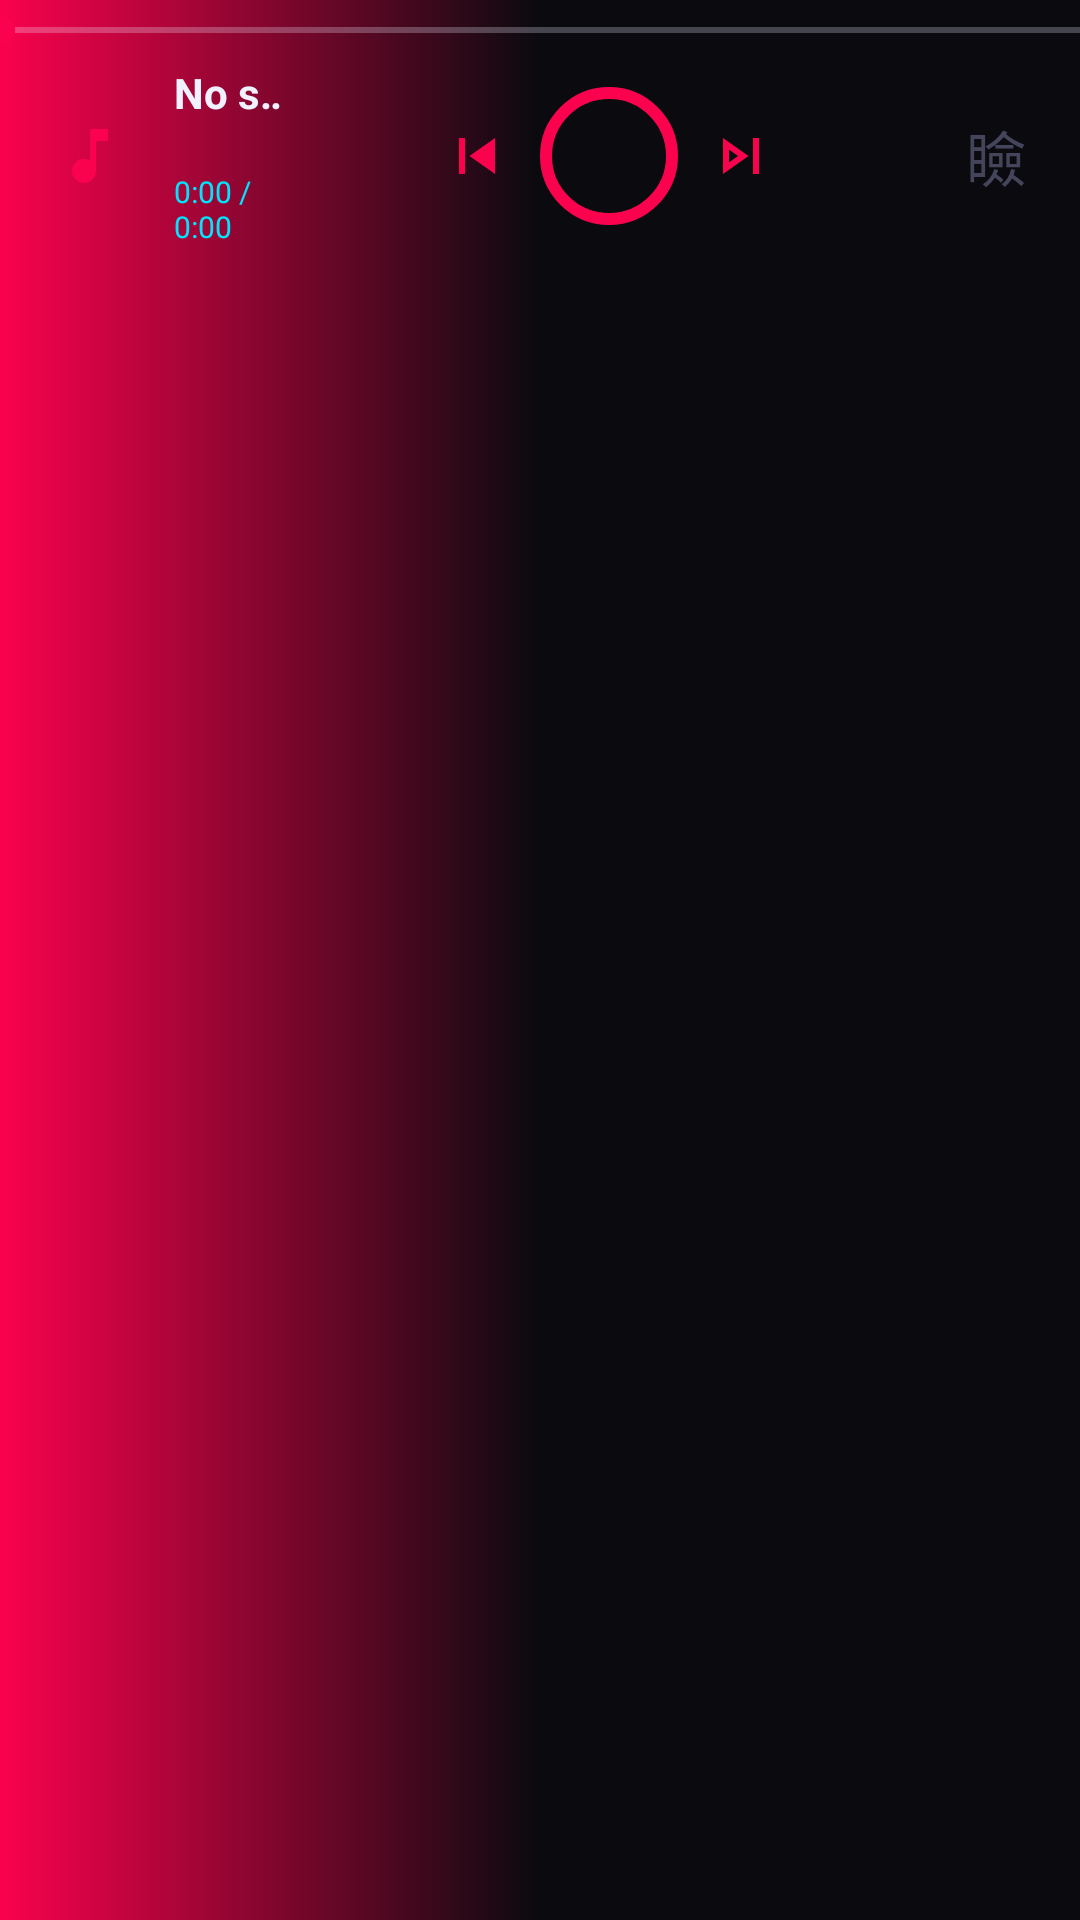

Named icons in this screenshot (1080x1920) and their bounding boxes, (x1, y1, x2, y2):
Next: (723, 138, 759, 174)
